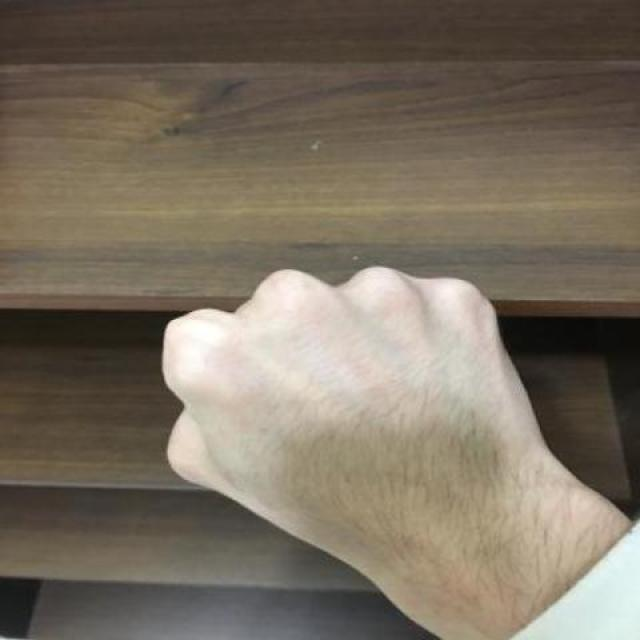Closed Hand: (156, 241, 640, 595)
